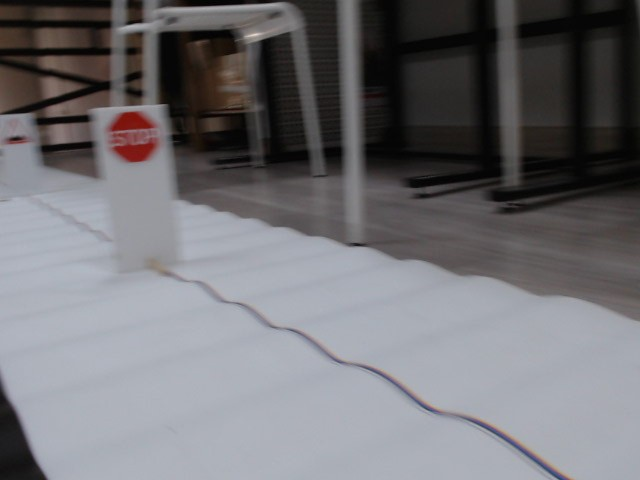Stop: (109, 112, 160, 163)
